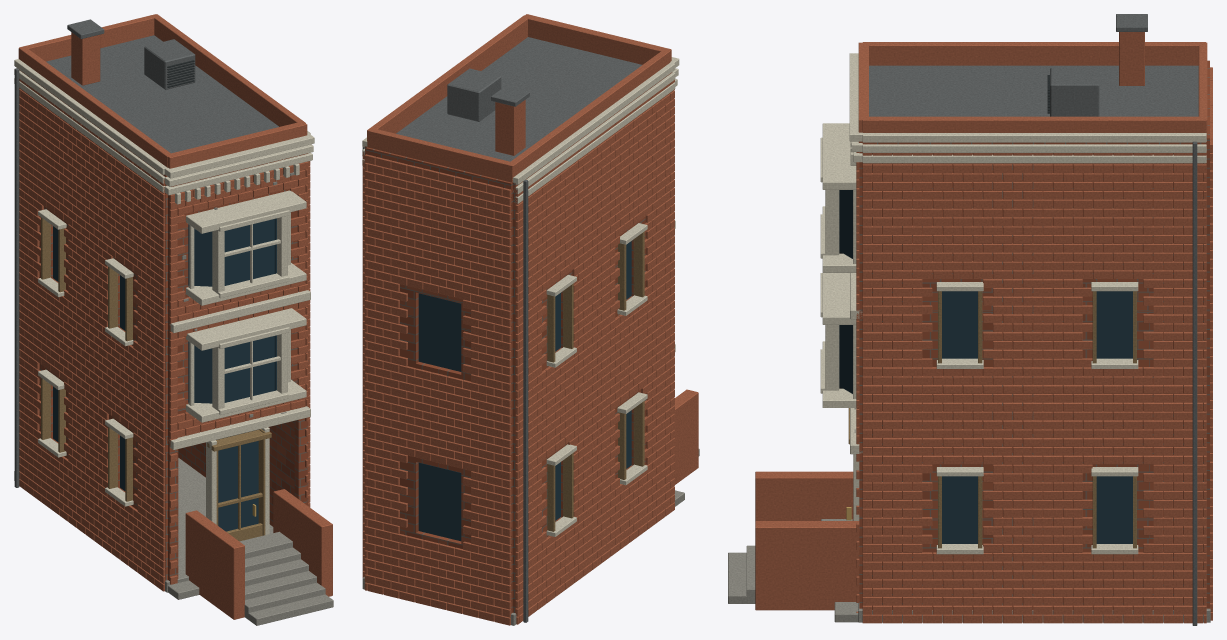
File: VICT25_lod0.glb
The picture shows the model from 3 angles, left to right: view 1: azimuth 30°, elevation 25°; view 2: azimuth 150°, elevation 25°; view 3: azimuth 270°, elevation 25°; orthographic projection. The views are drawn at different scales.
Parts seen in each view (by area): view 1: VICT25_LOD0; view 2: VICT25_LOD0; view 3: VICT25_LOD0.
Boxes of the visible parts, <box> form: VICT25_LOD0: <box>14,14,333,625</box>; VICT25_LOD0: <box>362,14,699,625</box>; VICT25_LOD0: <box>728,14,1212,625</box>.
Size of the model in its own units: 3.71 by 10.45 by 8.46.
Materials: 12 (9 with a texture image).
